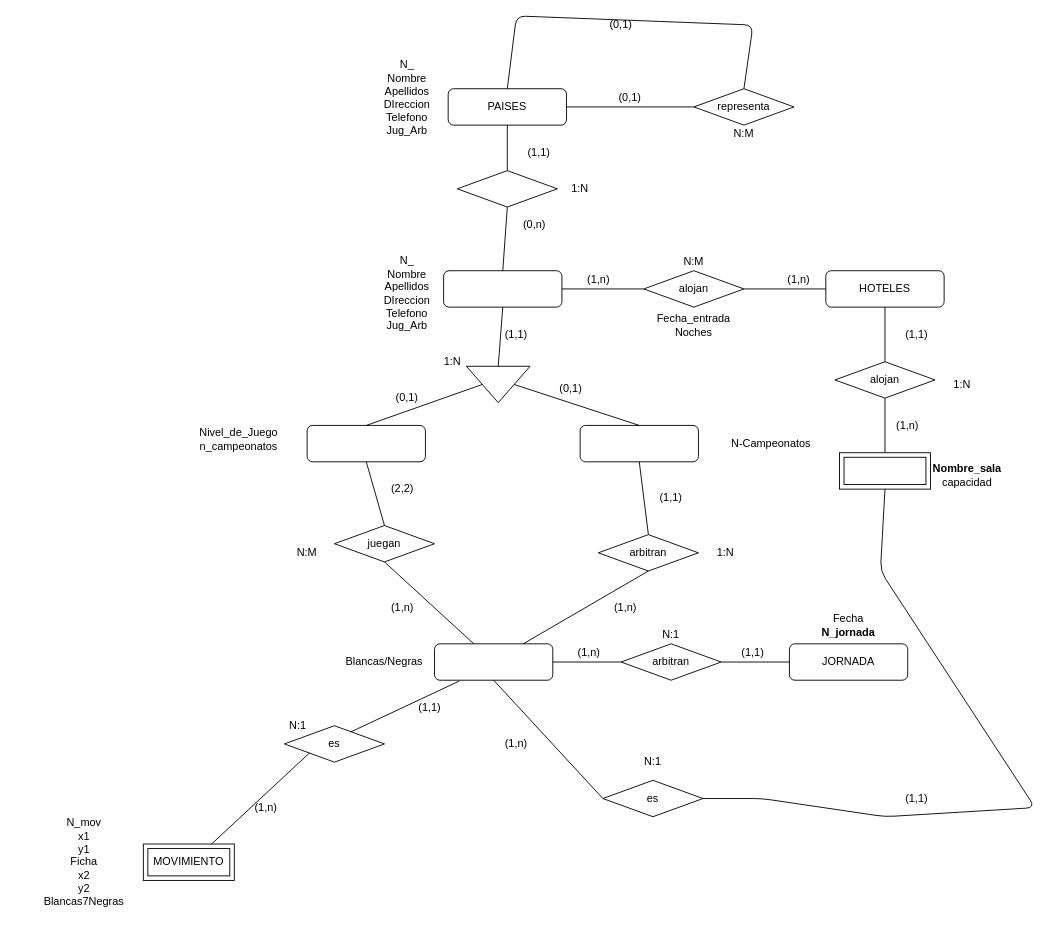
Image size: 1052x928. Some labels were removed from this diagram. The shapes that lost their labels are listed below. From the top down, each one's centre as x and y in pixels, then its label:
At point 506,188: "pertenece".
At point 502,288: "PARTICIPANTES".
At point 365,443: "JUGADORES".
At point 638,443: "ARBITROS".
At point 884,470: "SALA".
At point 493,661: "PARTIDAS".
